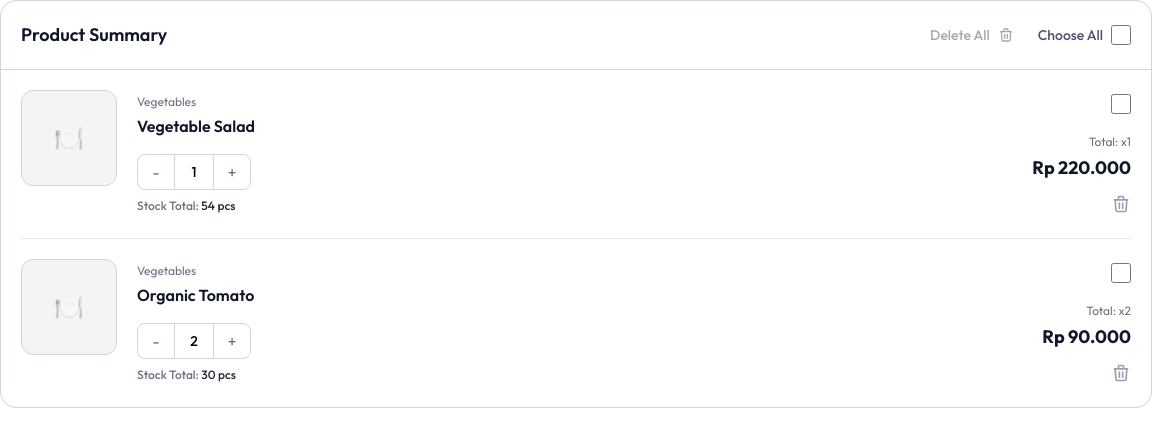
CartItemList Component › White-Box: Optimistic Update Logic › WB-22: Path API success → state permanen, tidak rollback
Click the button named "Hapus dari keranjang" below "Rp 220.000" at (1121, 204), box x1=1111 y1=194 x2=1131 y2=214
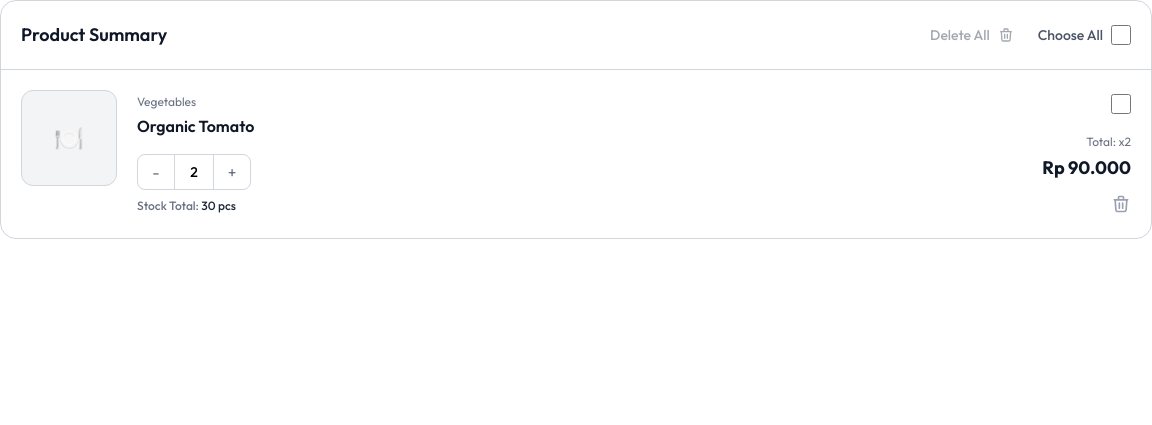
expect the heading "Vegetable Salad" is gone: met
